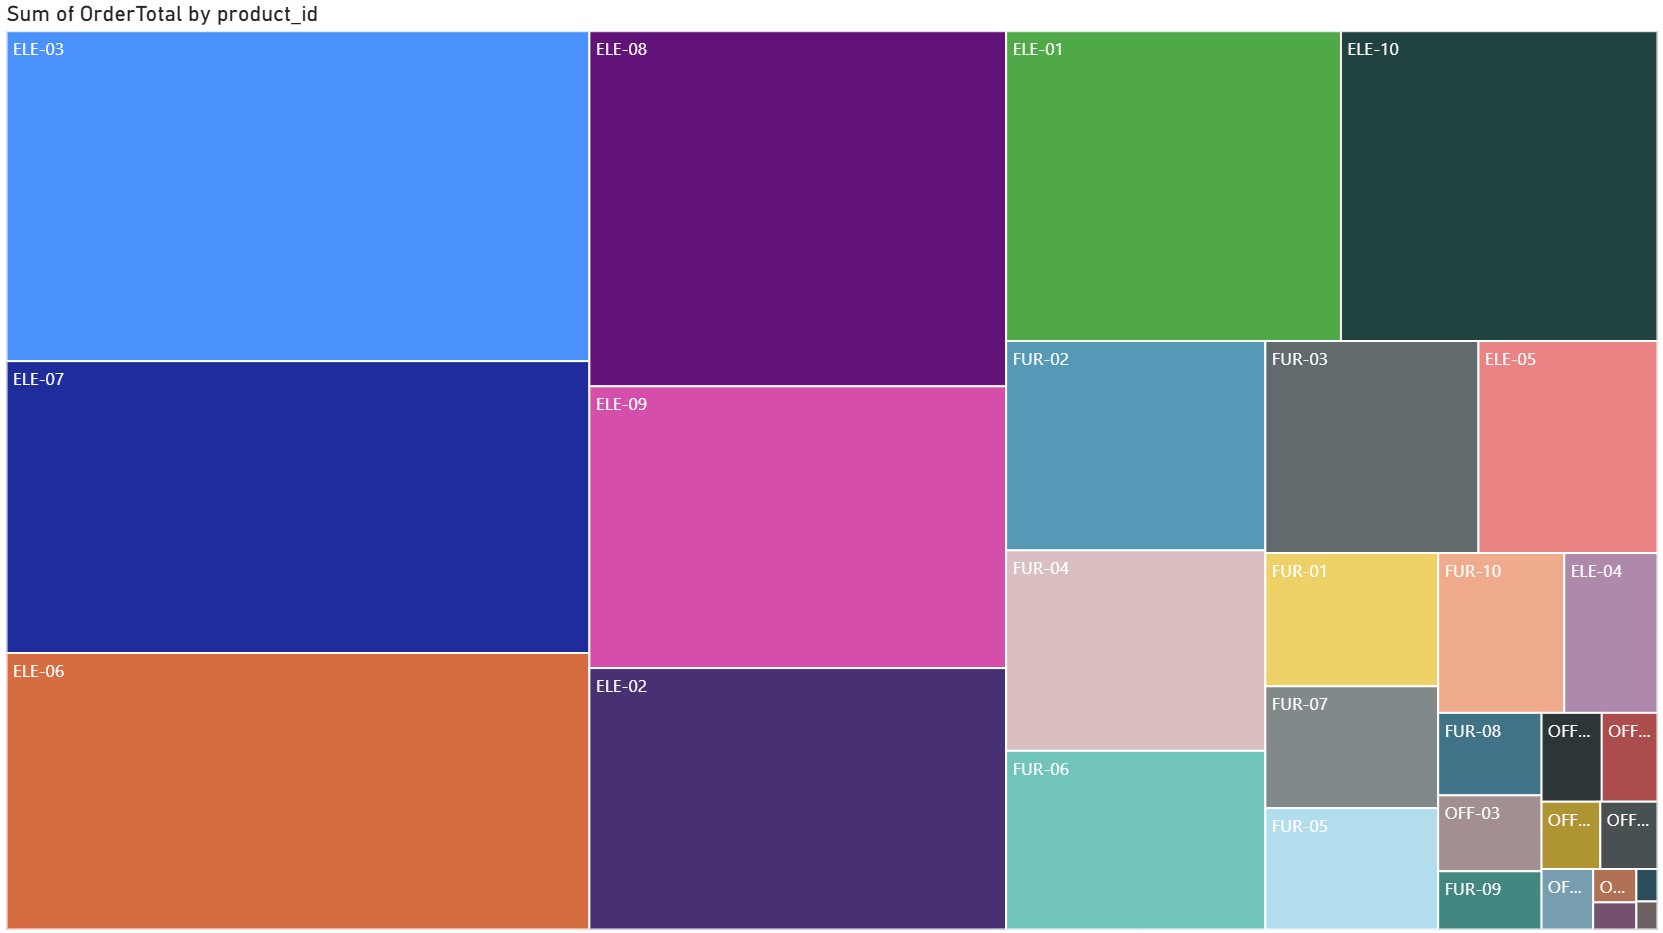

What the dashboard file says about the page in this screenshot:
{"tool":"powerbi","page":{"name":"Treemap (doanh thu theo category sản phẩm)","canvas":[1280,720],"ordinal":3},"visuals":[{"type":"treemap","fields":{"Group":["sales_data.product_id"],"Values":["Sum(sales_data.OrderTotal)"]},"box":[0,0,1280,720],"z":0}]}

Visuals, with their boxes in screenshot pixels (x1, y1, x2, y2), scaled from the page's 1280x720 canvas onto the 1663x933 screenshot:
treemap - sales_data.product_id x Sum(sales_data.OrderTotal): crop(0, 0, 1662, 932)
